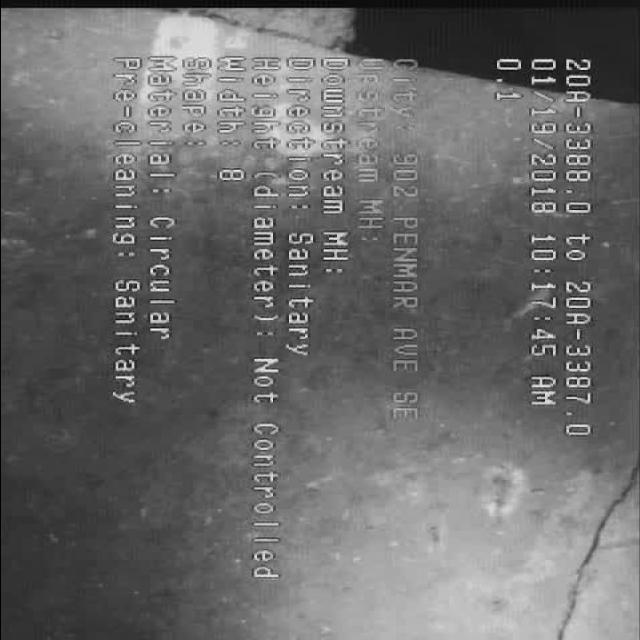Crack: (541, 493, 635, 634)
